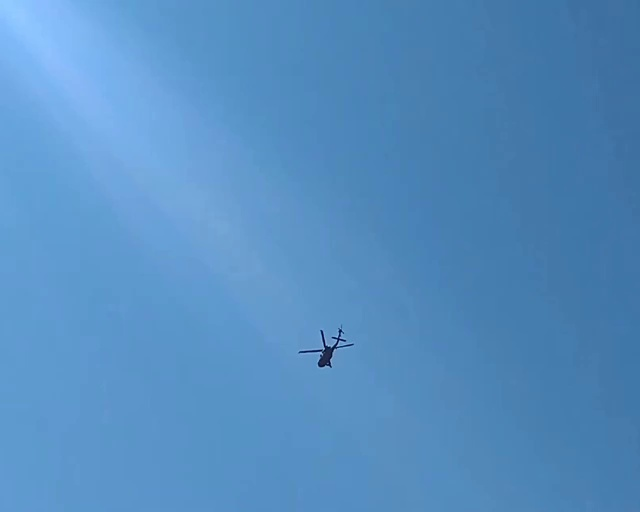HELICOPTER: (299, 324, 355, 368)
